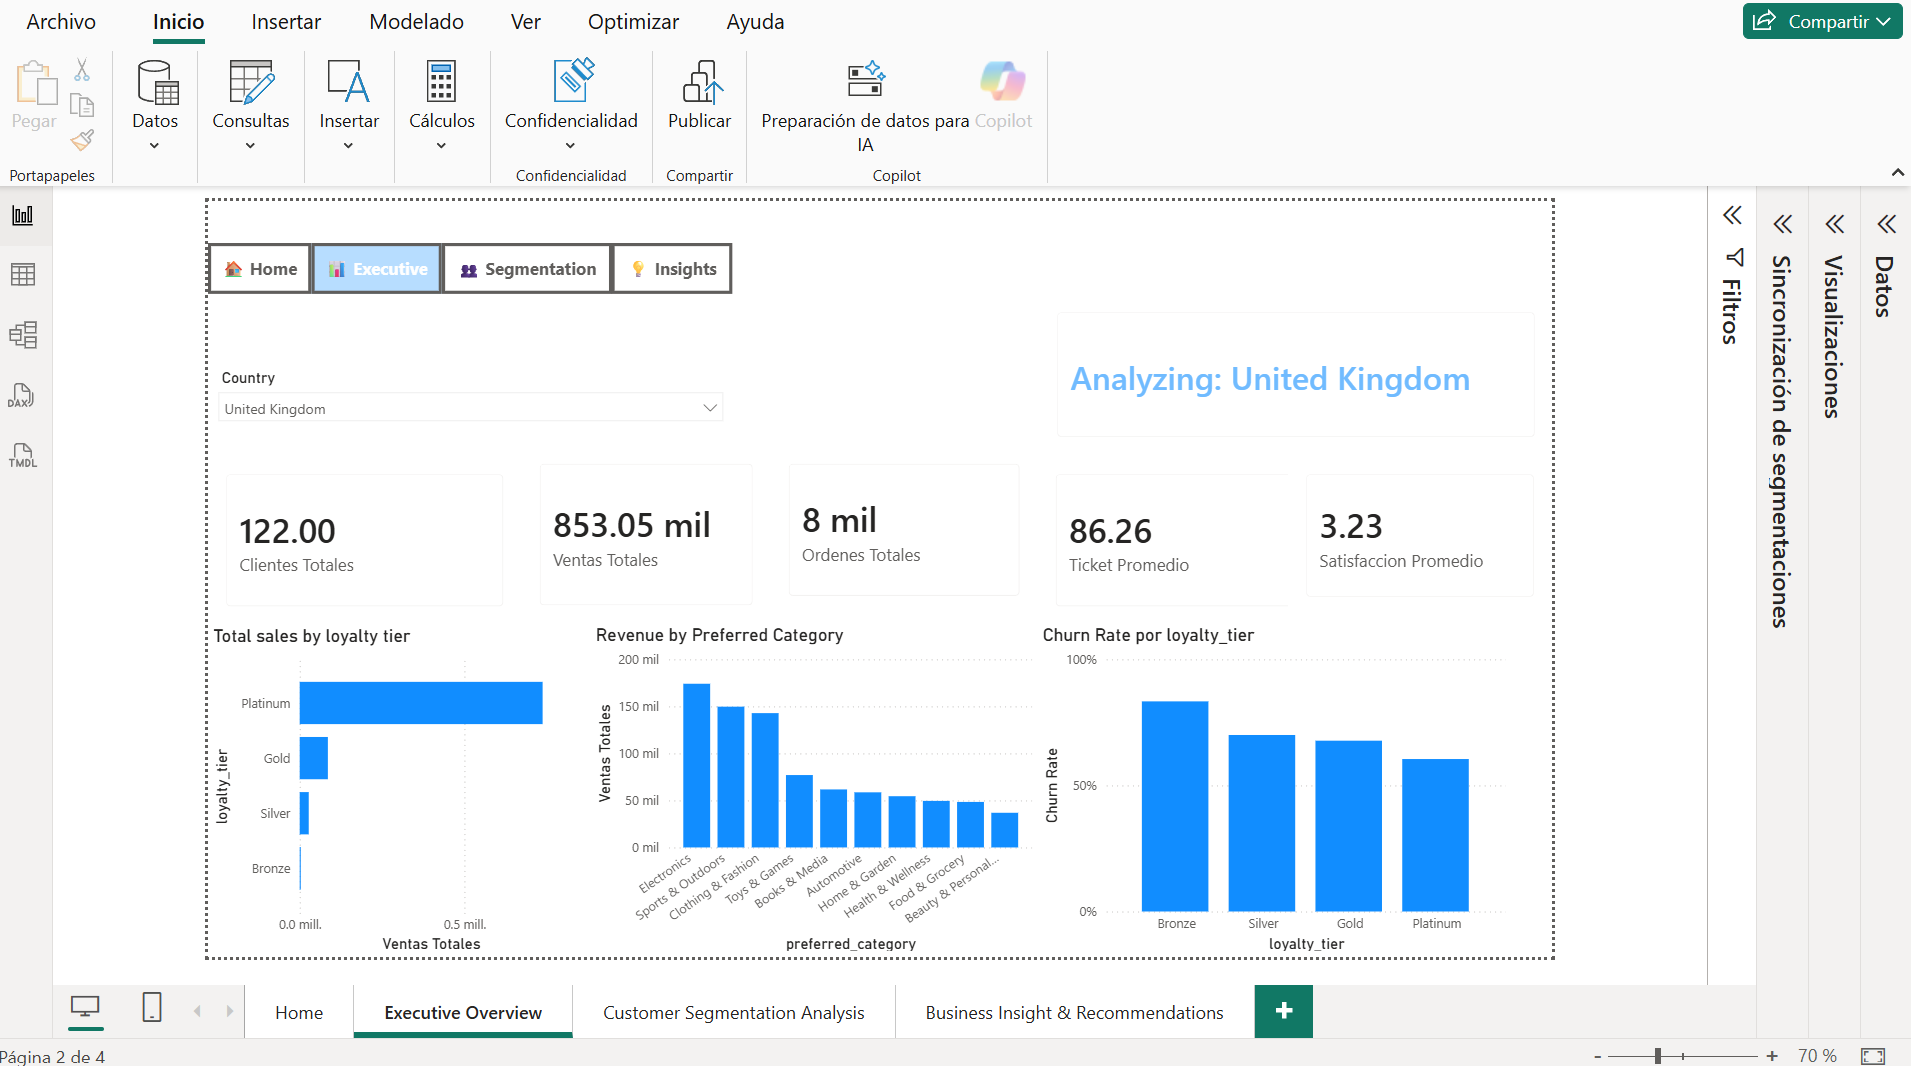

This screenshot's page, from the dashboard's own definition file:
{"tool":"powerbi","page":{"name":"Executive Overview","canvas":[1280,720],"ordinal":1},"visuals":[{"type":"cardVisual","fields":{"Data":["ecommerce_customer_analytics.Clientes Totales"]},"box":[0,242.3,298.3,160.5],"z":0},{"type":"cardVisual","fields":{"Data":["ecommerce_customer_analytics.Ventas Totales"]},"box":[298.3,233.2,237.7,169.6],"z":1000},{"type":"cardVisual","fields":{"Data":["ecommerce_customer_analytics.Ticket Promedio"]},"box":[790.4,242.3,265,160.5],"z":2000},{"type":"cardVisual","fields":{"Data":["ecommerce_customer_analytics.Satisfaccion Promedio"]},"box":[1028.1,242.3,251.4,151.4],"z":3000},{"type":"cardVisual","fields":{"Data":["ecommerce_customer_analytics.Ordenes Totales"]},"box":[536,233.2,254.4,160.5],"z":4000},{"type":"barChart","title":"Total sales by loyalty tier","fields":{"Category":["ecommerce_customer_analytics.loyalty_tier"],"Y":["ecommerce_customer_analytics.Ventas Totales"]},"box":[0,404.4,364,315.8],"z":5000},{"type":"columnChart","fields":{"Category":["ecommerce_customer_analytics.loyalty_tier"],"Y":["ecommerce_customer_analytics.Churn Rate"]},"box":[790.4,402.8,451.2,316.5],"z":6000},{"type":"columnChart","title":"Revenue by Preferred Category","fields":{"Category":["ecommerce_customer_analytics.preferred_category"],"Y":["ecommerce_customer_analytics.Ventas Totales"]},"box":[364.9,402.8,425.5,316.5],"z":7000},{"type":"actionButton","title":"Home","box":[0,39.4,98.4,48.5],"z":8000},{"type":"actionButton","title":"Home","box":[222.6,39.4,162,48.5],"z":9000},{"type":"actionButton","title":"Home","box":[384.6,39.4,115.1,48.5],"z":10000},{"type":"actionButton","title":"Home","box":[98.4,39.4,124.2,48.5],"z":11000},{"type":"slicer","fields":{"Values":["ecommerce_customer_analytics.country"]},"box":[0,154.1,500.7,79],"z":11001},{"type":"cardVisual","fields":{"Data":["ecommerce_customer_analytics.Título Dinámico"]},"box":[791.1,88.4,489.5,153.2],"z":11002}]}

Visuals, with their boxes on the page's 1280x720 design canvas (x1, y1, x2, y2). These are canvas units, not pixel positions in the 1911x1066 screenshot, which may show the page scaled, cropped or inside an application window:
cardVisual - ecommerce_customer_analytics.Clientes Totales: pyautogui.locateOnScreen(0, 242, 298, 403)
cardVisual - ecommerce_customer_analytics.Ventas Totales: pyautogui.locateOnScreen(298, 233, 536, 403)
cardVisual - ecommerce_customer_analytics.Ticket Promedio: pyautogui.locateOnScreen(790, 242, 1055, 403)
cardVisual - ecommerce_customer_analytics.Satisfaccion Promedio: pyautogui.locateOnScreen(1028, 242, 1280, 394)
cardVisual - ecommerce_customer_analytics.Ordenes Totales: pyautogui.locateOnScreen(536, 233, 790, 394)
"Total sales by loyalty tier" barChart: pyautogui.locateOnScreen(0, 404, 364, 720)
columnChart - ecommerce_customer_analytics.loyalty_tier x ecommerce_customer_analytics.Churn Rate: pyautogui.locateOnScreen(790, 403, 1242, 719)
"Revenue by Preferred Category" columnChart: pyautogui.locateOnScreen(365, 403, 790, 719)
"Home" actionButton: pyautogui.locateOnScreen(0, 39, 98, 88)
"Home" actionButton: pyautogui.locateOnScreen(223, 39, 385, 88)
"Home" actionButton: pyautogui.locateOnScreen(385, 39, 500, 88)
"Home" actionButton: pyautogui.locateOnScreen(98, 39, 223, 88)
slicer - ecommerce_customer_analytics.country: pyautogui.locateOnScreen(0, 154, 501, 233)
cardVisual - ecommerce_customer_analytics.Título Dinámico: pyautogui.locateOnScreen(791, 88, 1281, 242)
